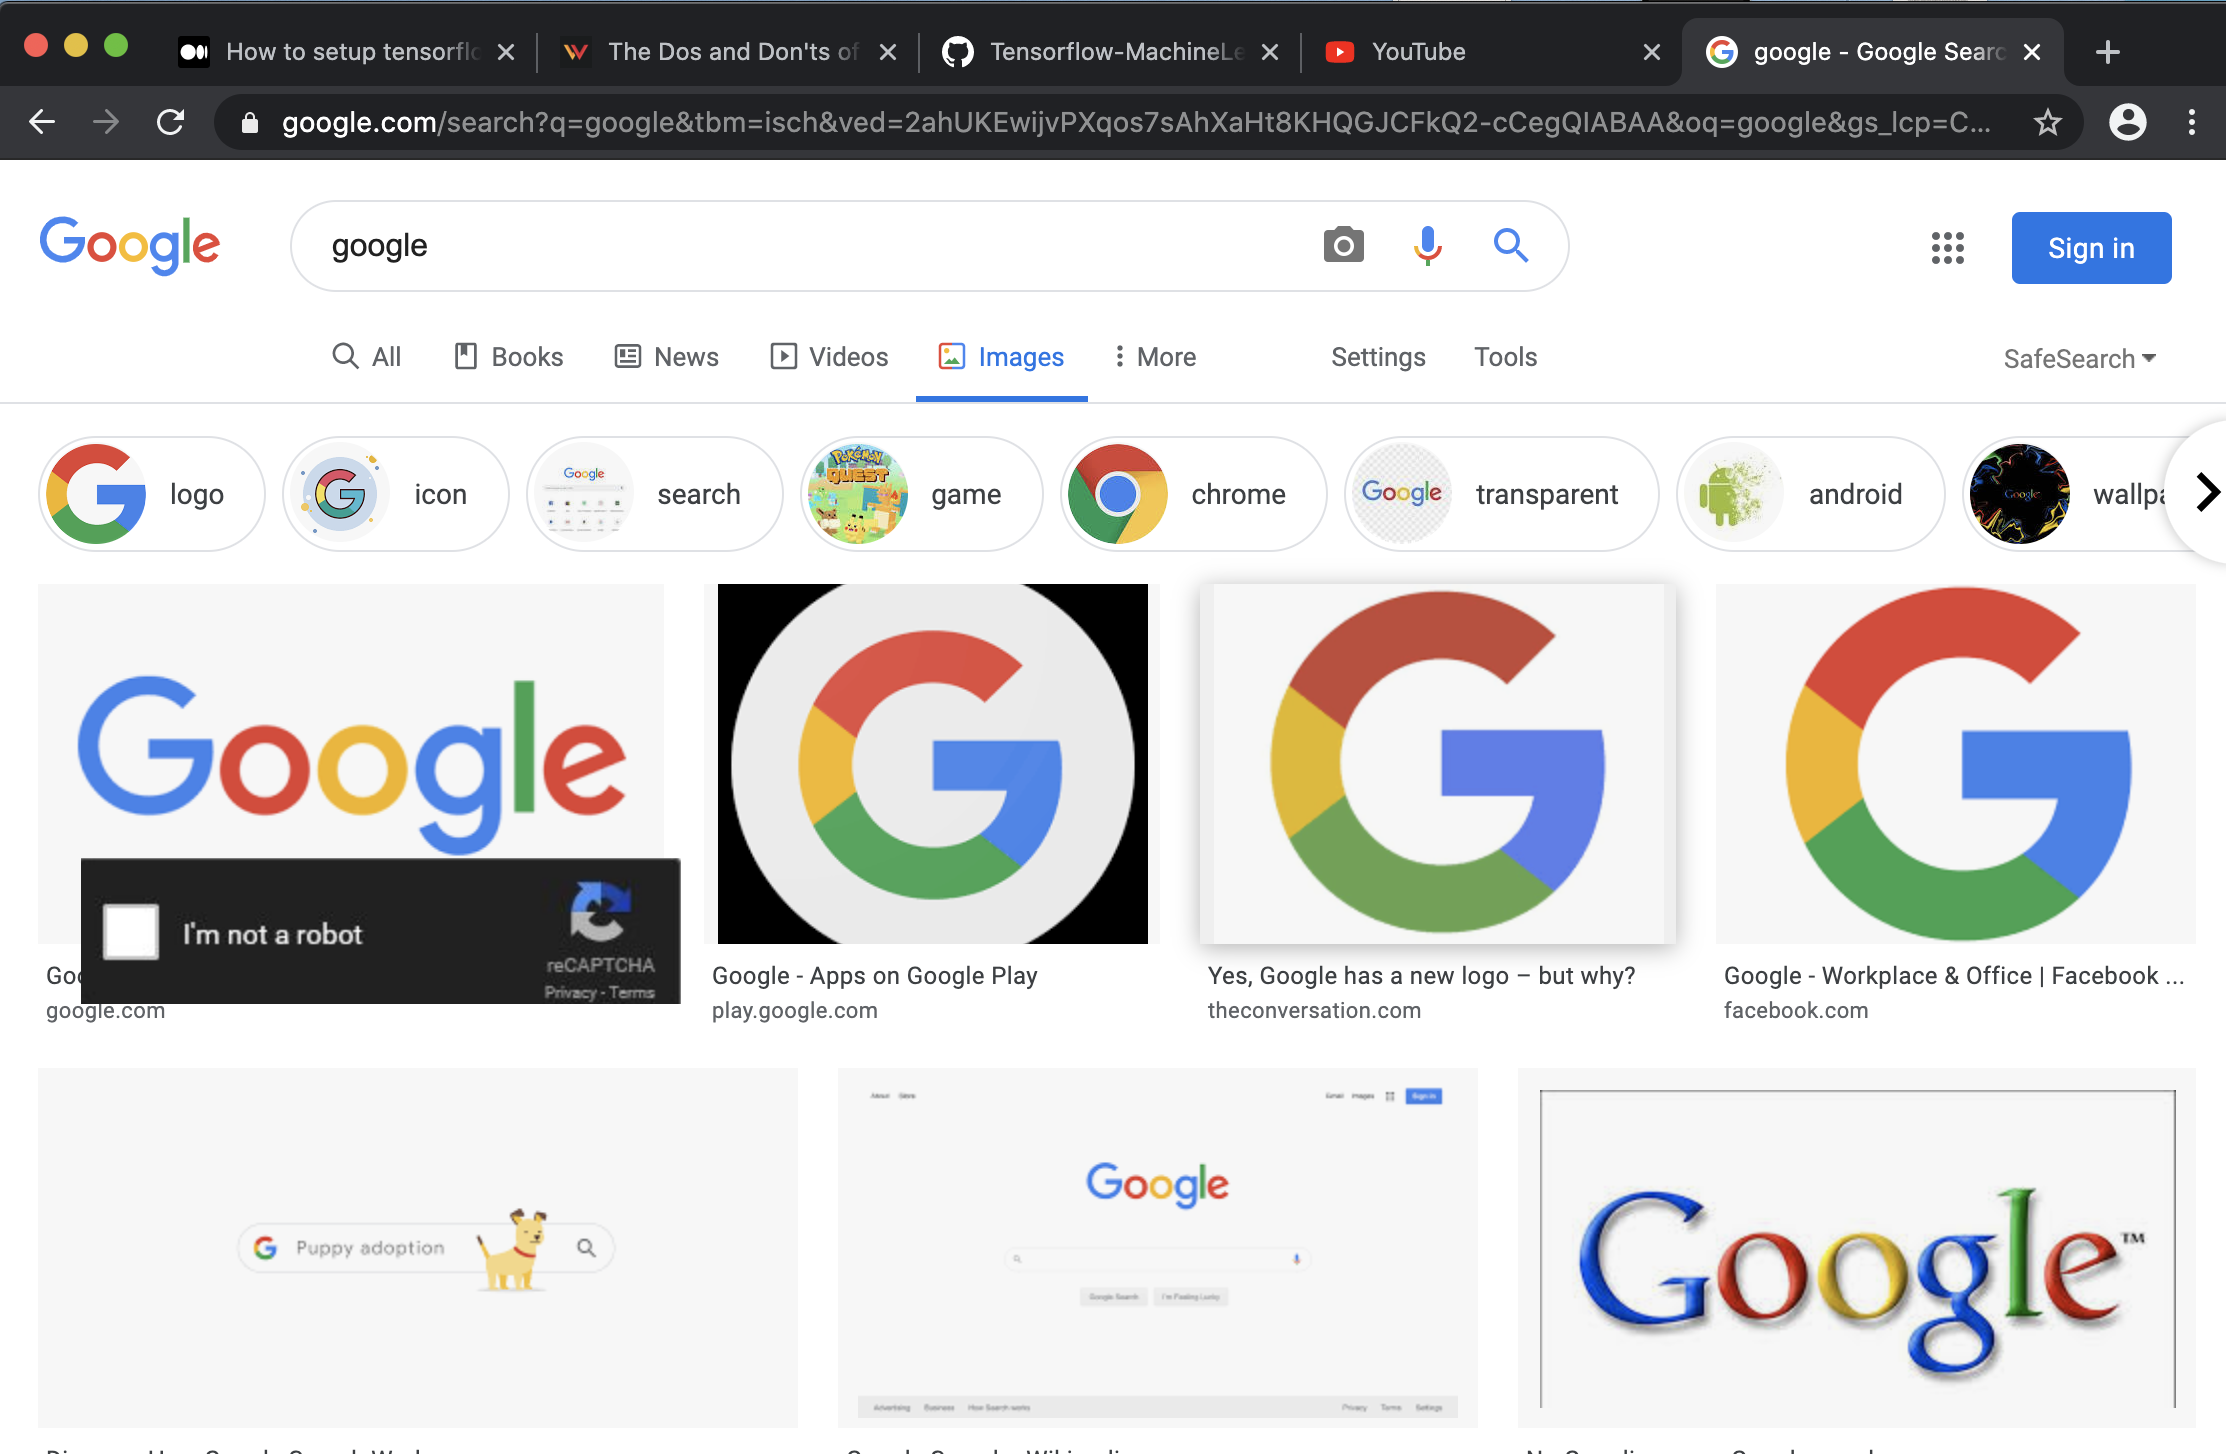captcha: (73, 842, 709, 1034)
